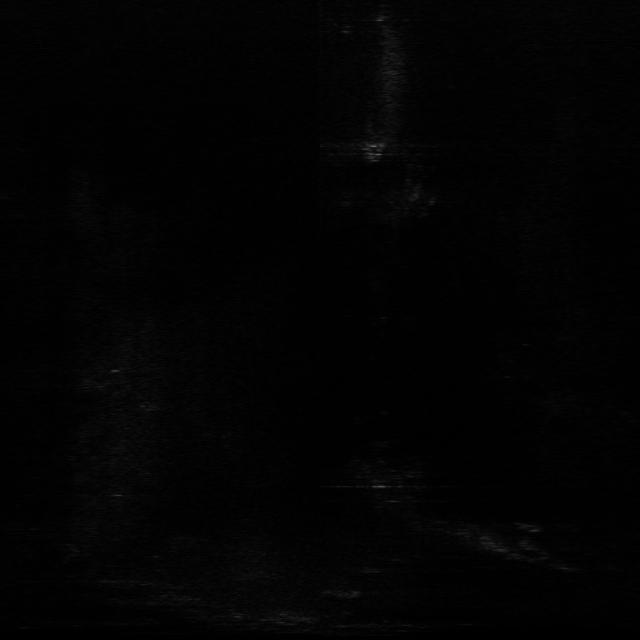rov: (360, 138, 390, 166)
